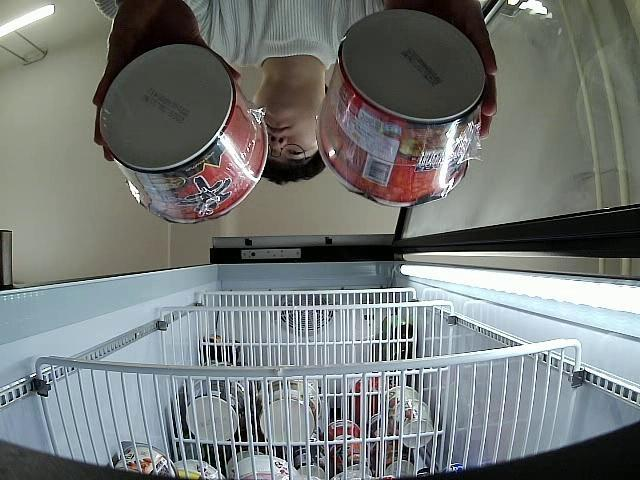01_ShinRamen_L: (320, 11, 487, 205), (100, 42, 266, 224)
